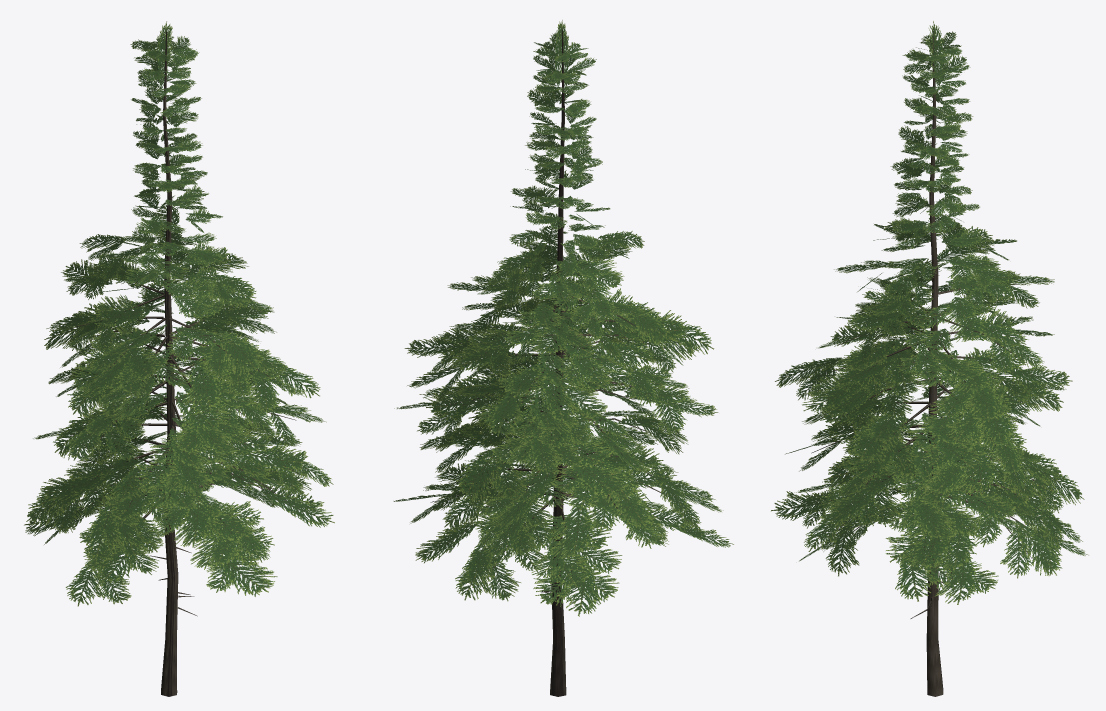
The model's file is near.glb.
The picture shows the model from 3 angles, left to right: view 1: azimuth 30°, elevation 25°; view 2: azimuth 150°, elevation 25°; view 3: azimuth 270°, elevation 25°; orthographic projection.
Parts seen in each view (by area): view 1: spruce_05; view 2: spruce_05; view 3: spruce_05.
Part boxes in pixels (left/top/right/bottom): spruce_05: left=24, top=21, right=334, bottom=696; spruce_05: left=393, top=20, right=733, bottom=696; spruce_05: left=771, top=21, right=1088, bottom=696.
Bounding box in the file's own units: 8.55 × 18.1 × 7.99.
2 materials, 2 textured.
